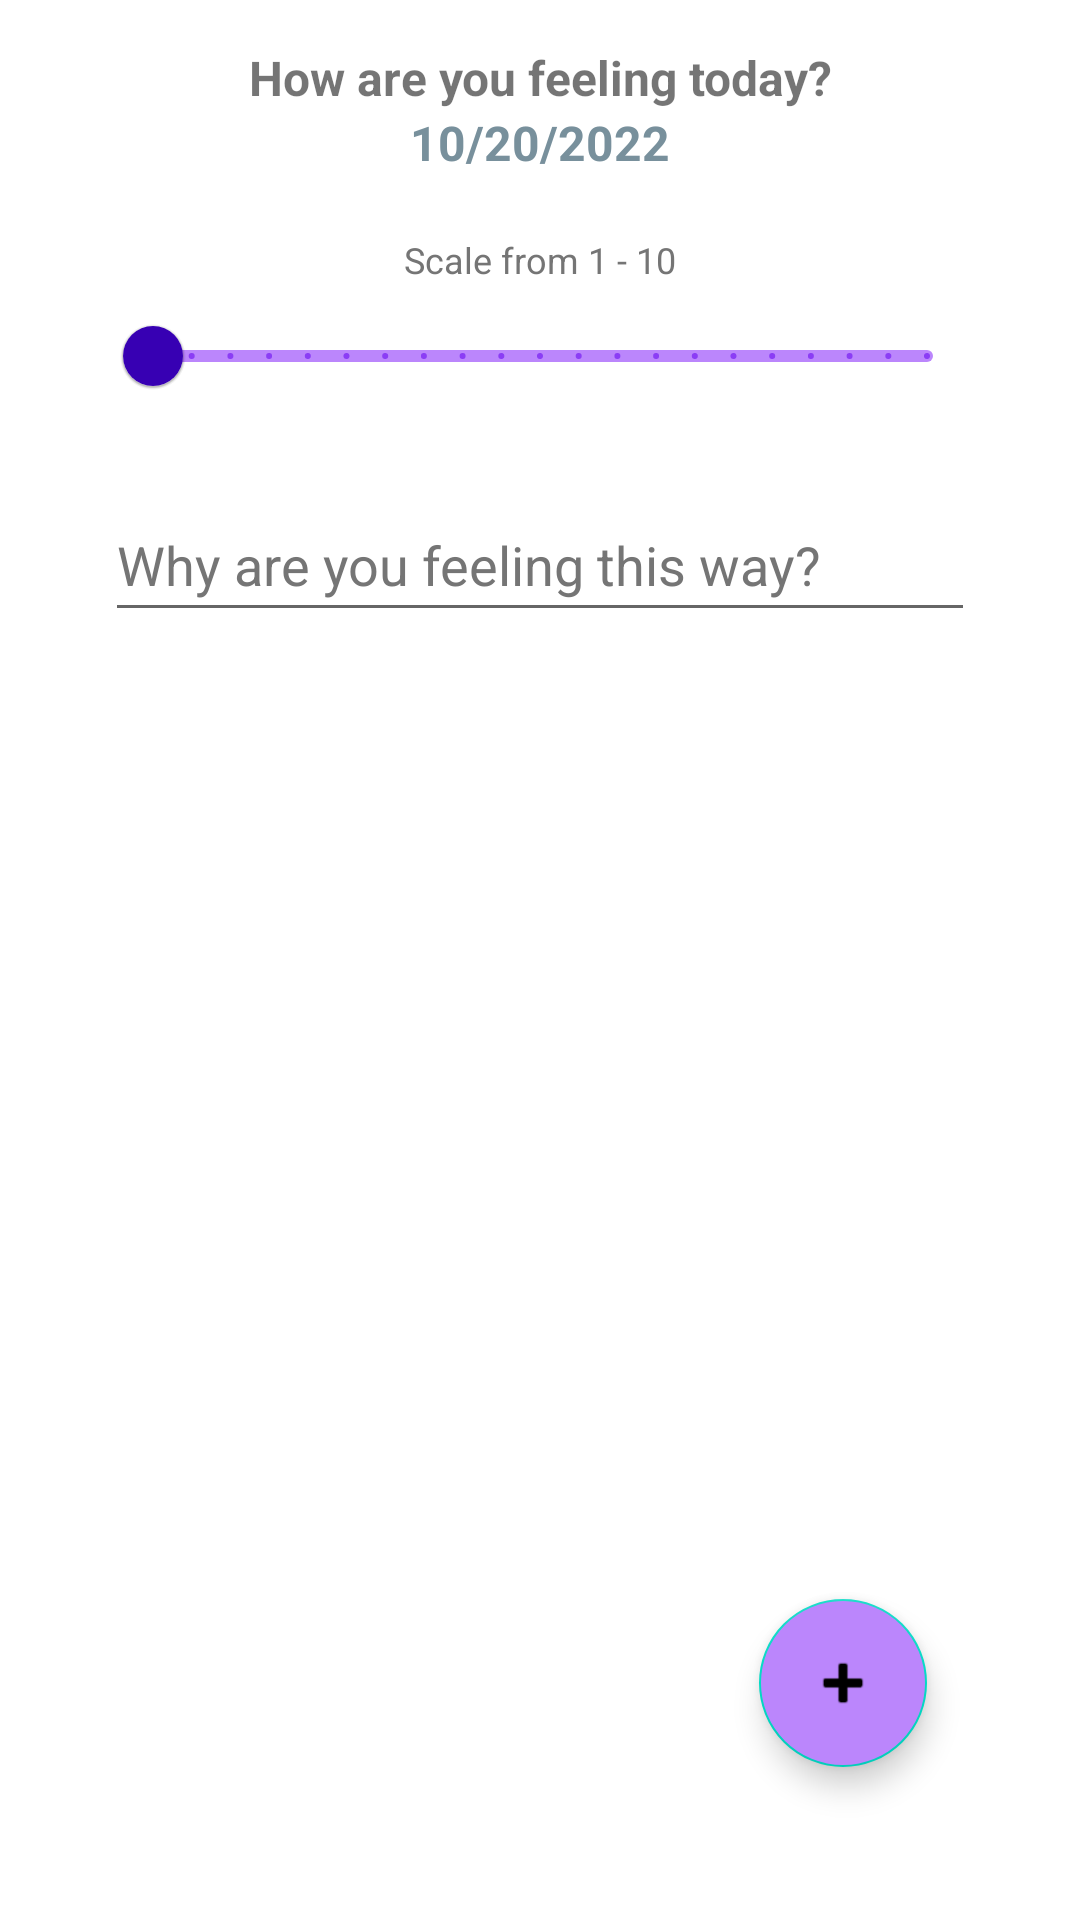

Where icons sit on this 1080x1920 app screen, as [x1, y1, x2, y2]:
Post button: [759, 1599, 927, 1767]
